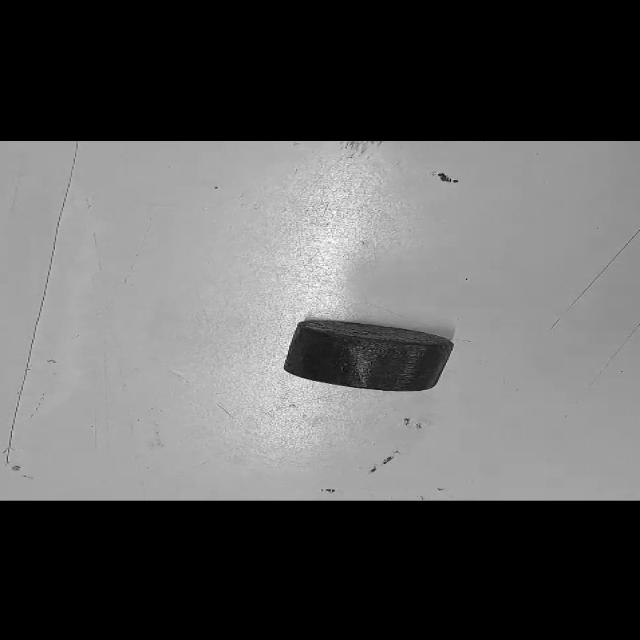bcircle: (284, 320, 453, 391)
